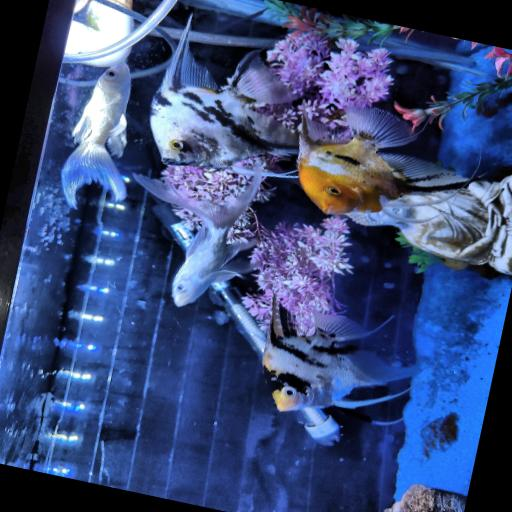Fish: (151, 15, 299, 168), (298, 104, 466, 213), (263, 299, 418, 410), (134, 173, 262, 305), (61, 63, 131, 207)
